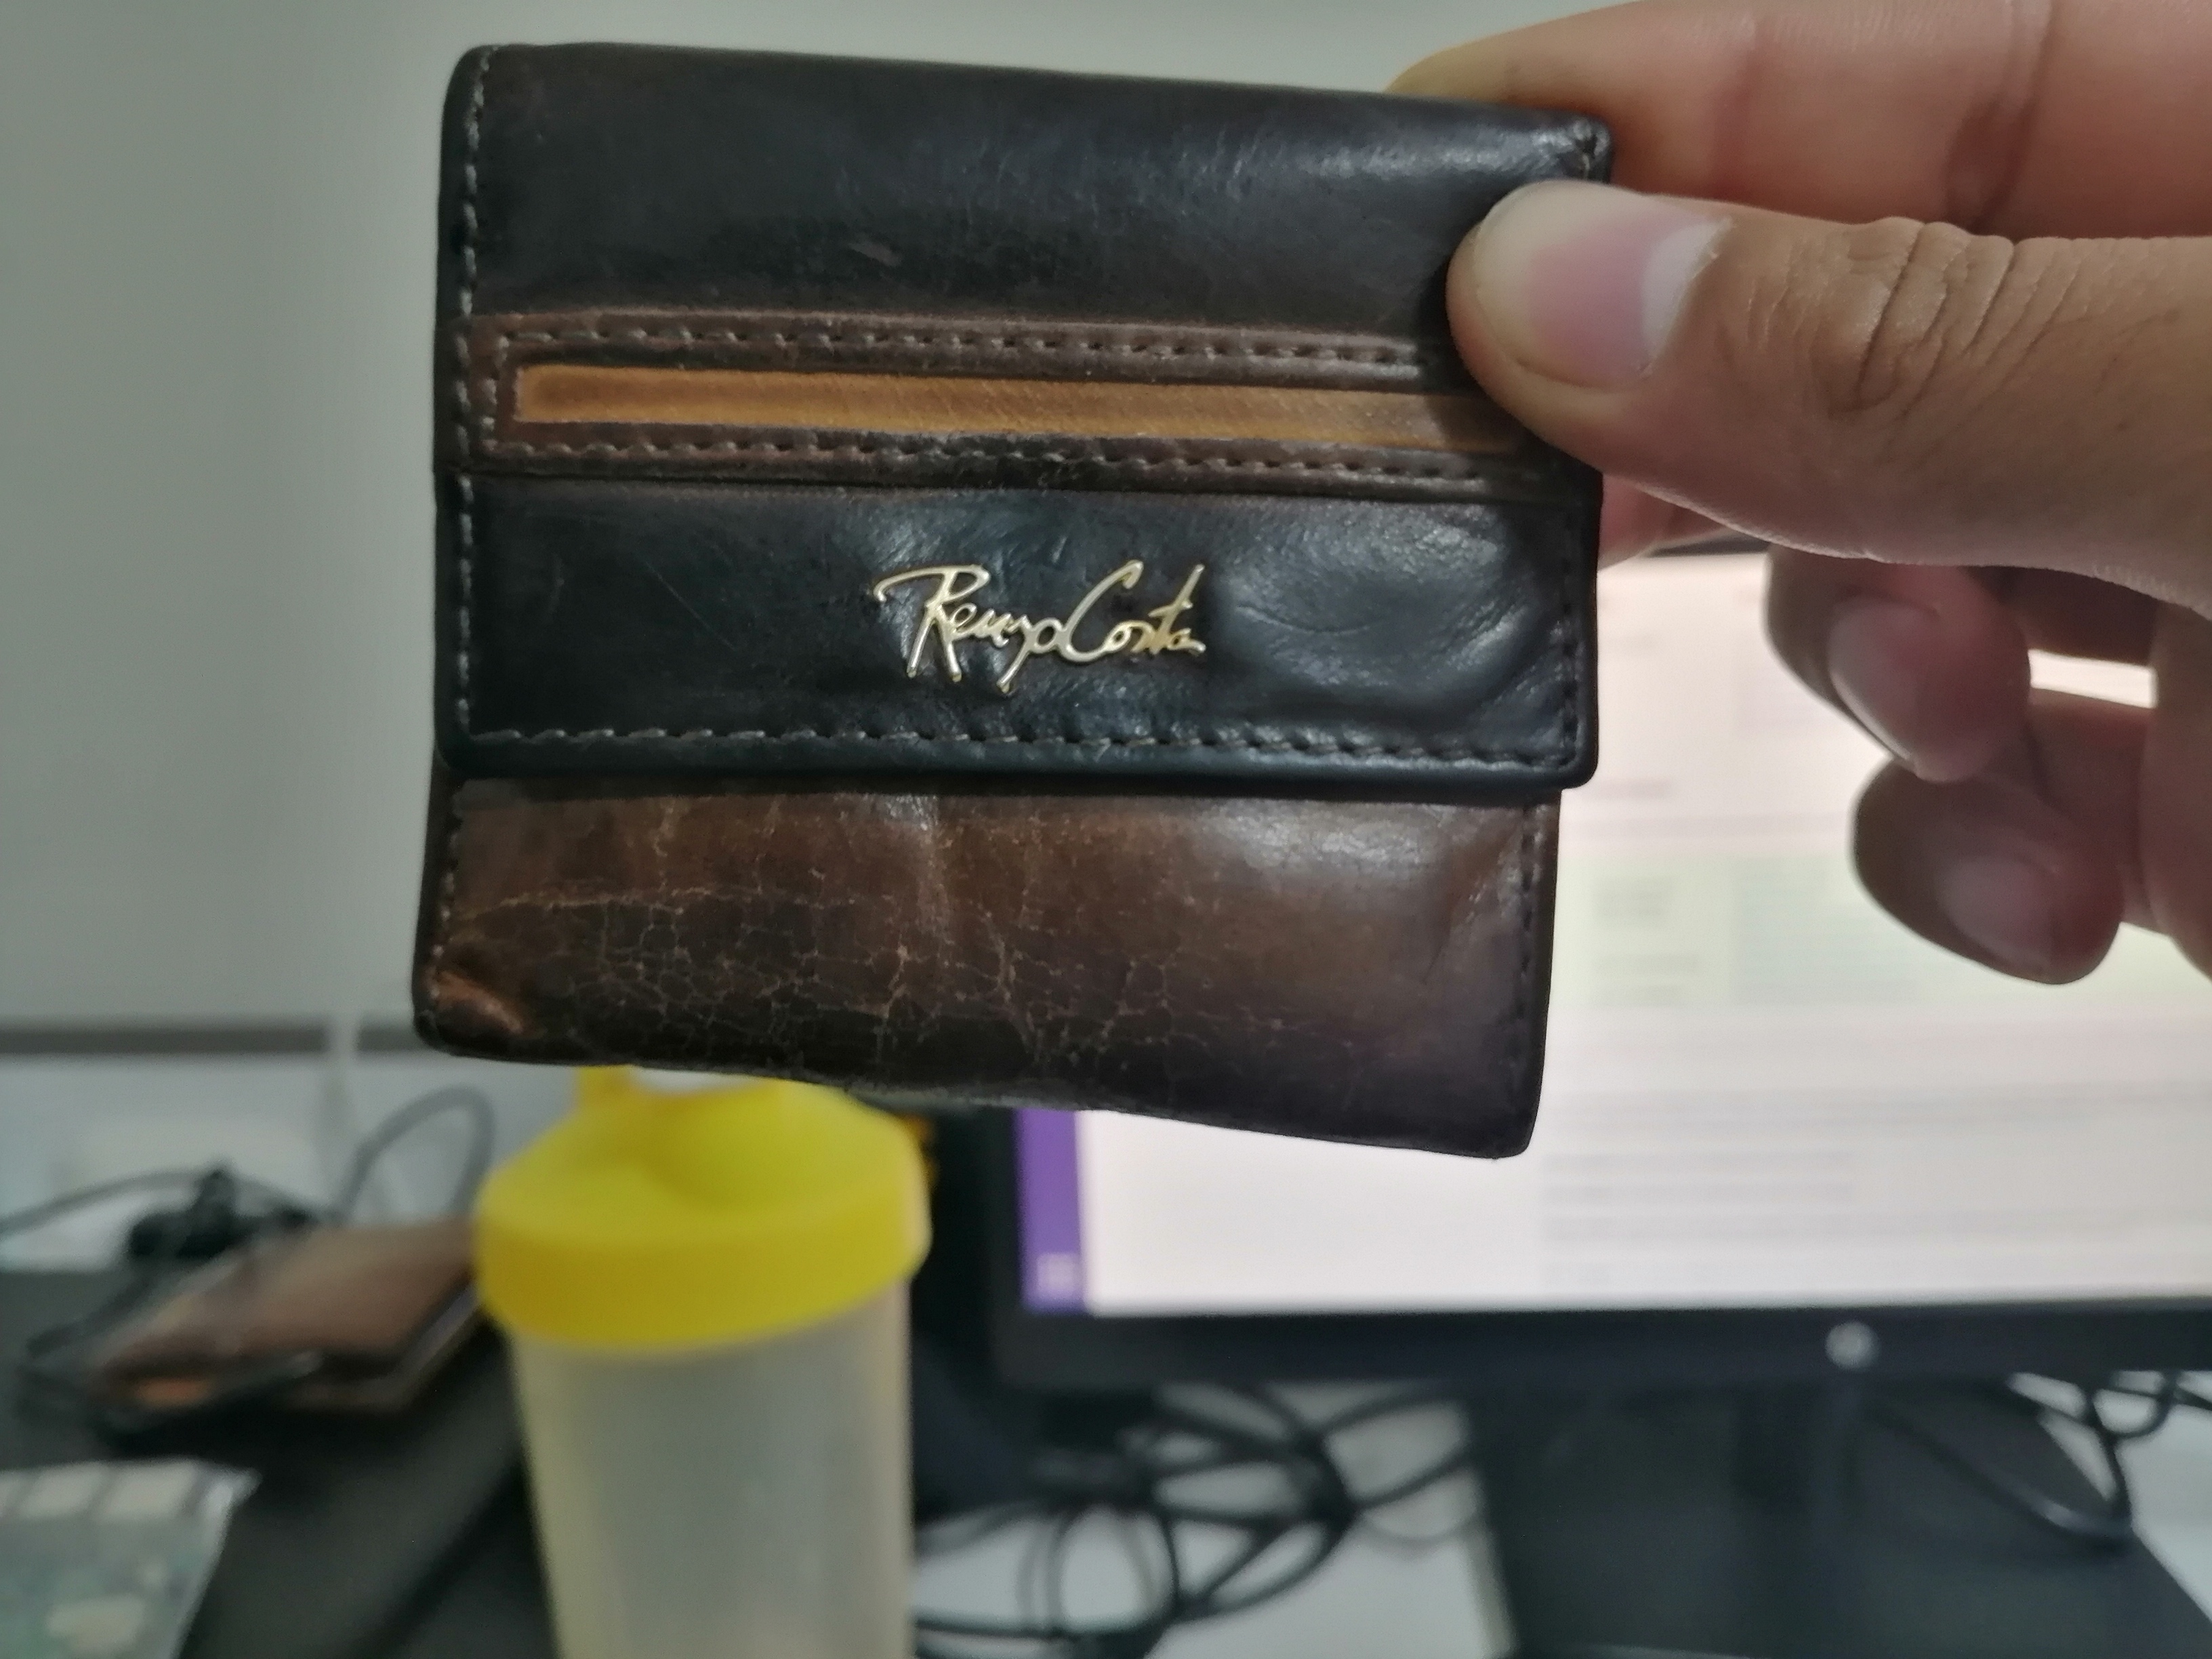monedero: (395, 26, 1629, 1187)
